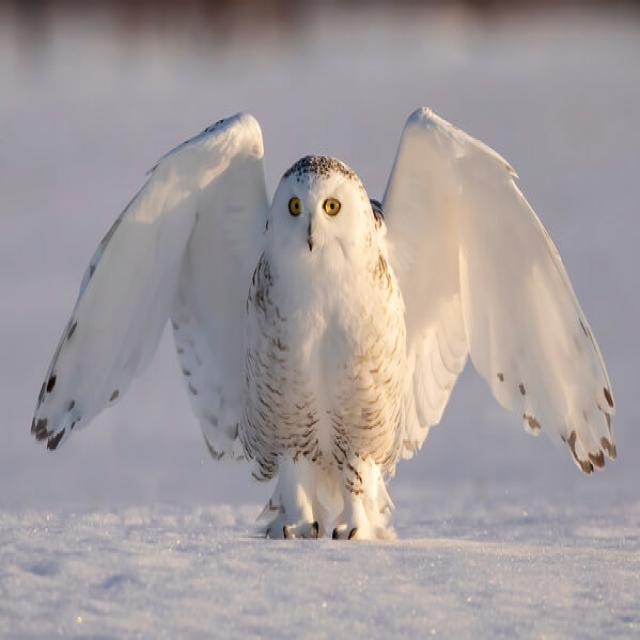owl: (22, 70, 622, 571)
